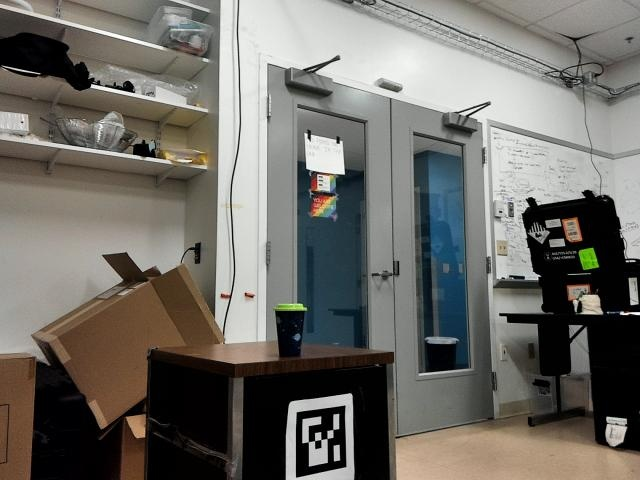useless_cup: (273, 301, 306, 353)
